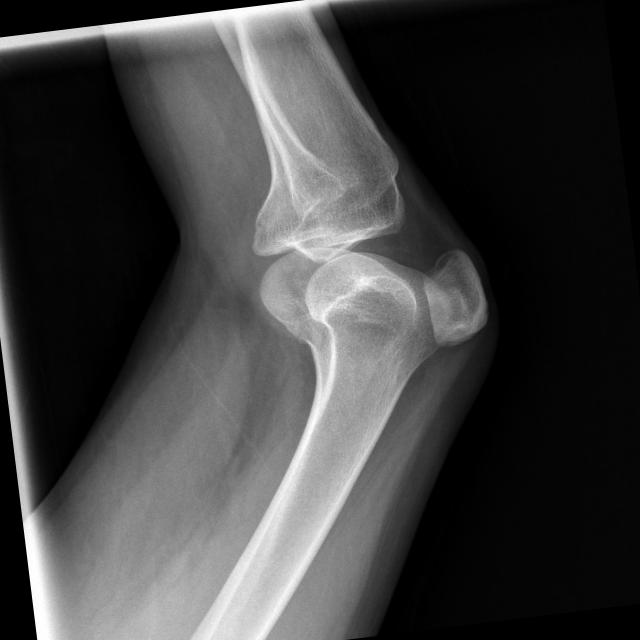Knee: (243, 145, 498, 377)
